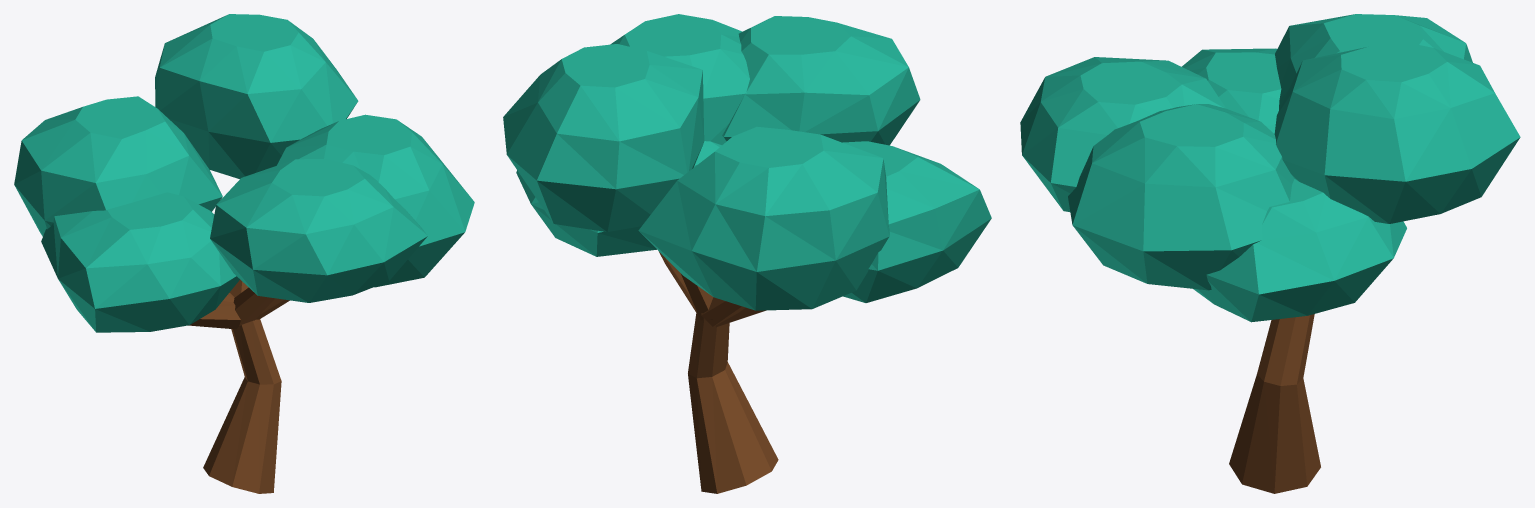
The model's file is olive_tree.fbx.
3 renders of one model, left to right at view 1: azimuth 30°, elevation 25°; view 2: azimuth 150°, elevation 25°; view 3: azimuth 270°, elevation 25°, orthographic. The views are drawn at different scales.
Parts seen in each view (by area): view 1: olive_tree; view 2: olive_tree; view 3: olive_tree.
Boxes of the visible parts, left/top/right/bottom form: olive_tree: left=14, top=14, right=474, bottom=493; olive_tree: left=503, top=14, right=991, bottom=493; olive_tree: left=1020, top=14, right=1520, bottom=493.
Bounding box in the file's own units: 6 × 6 × 6.
